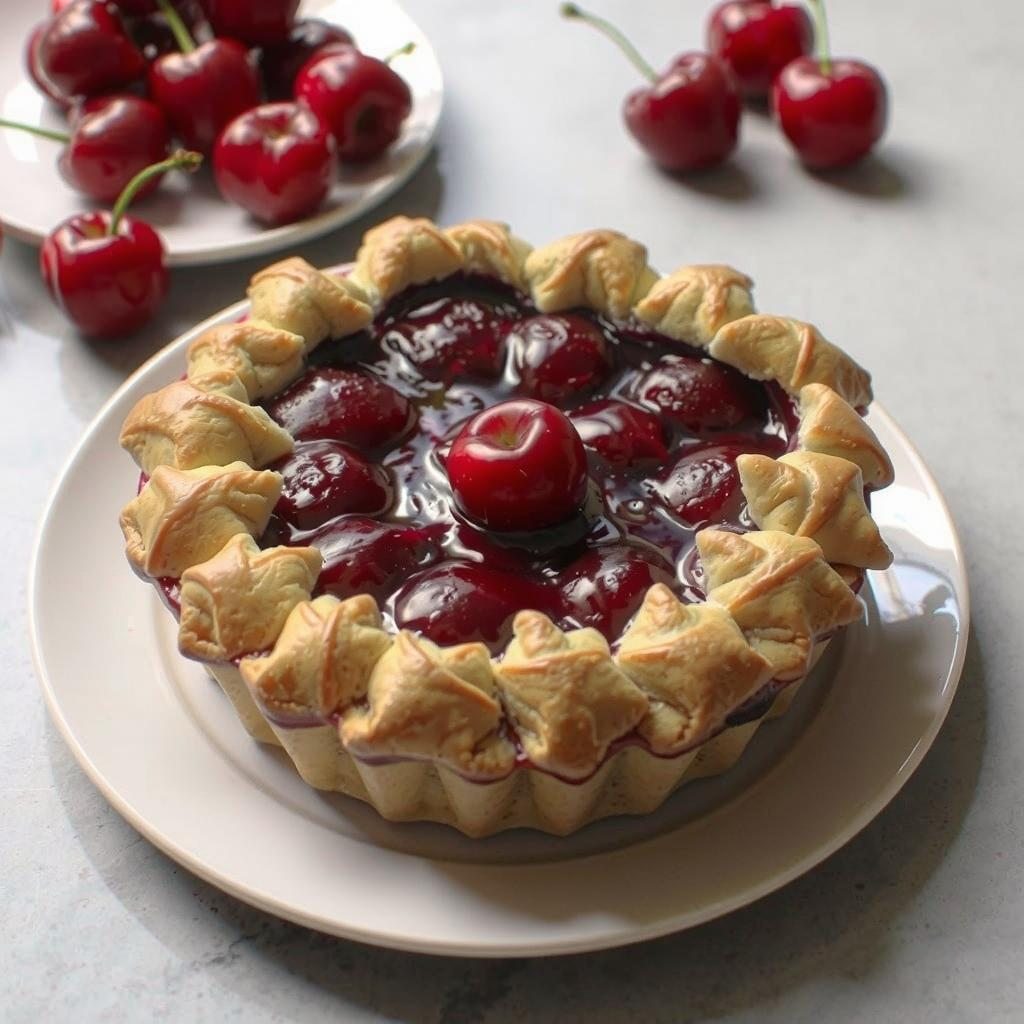pie: (109, 206, 917, 847)
